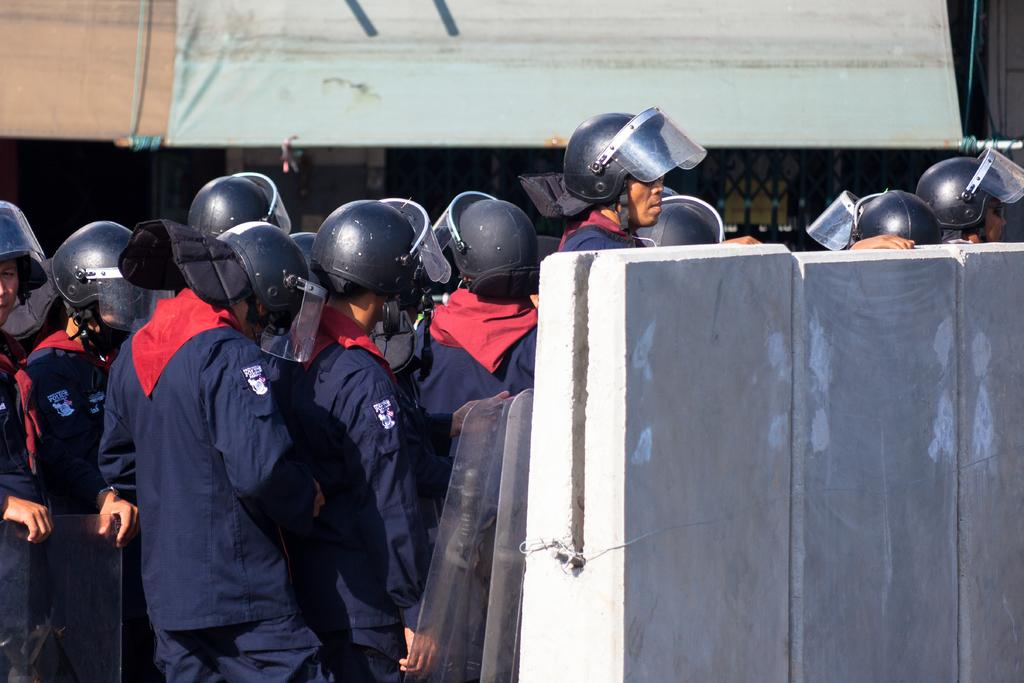helmet: (563, 105, 708, 221), (214, 220, 328, 362), (310, 197, 446, 315), (49, 220, 176, 333), (420, 191, 539, 294), (915, 148, 1024, 246), (187, 172, 292, 272)
